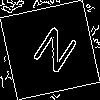N: (25, 25, 80, 83)
